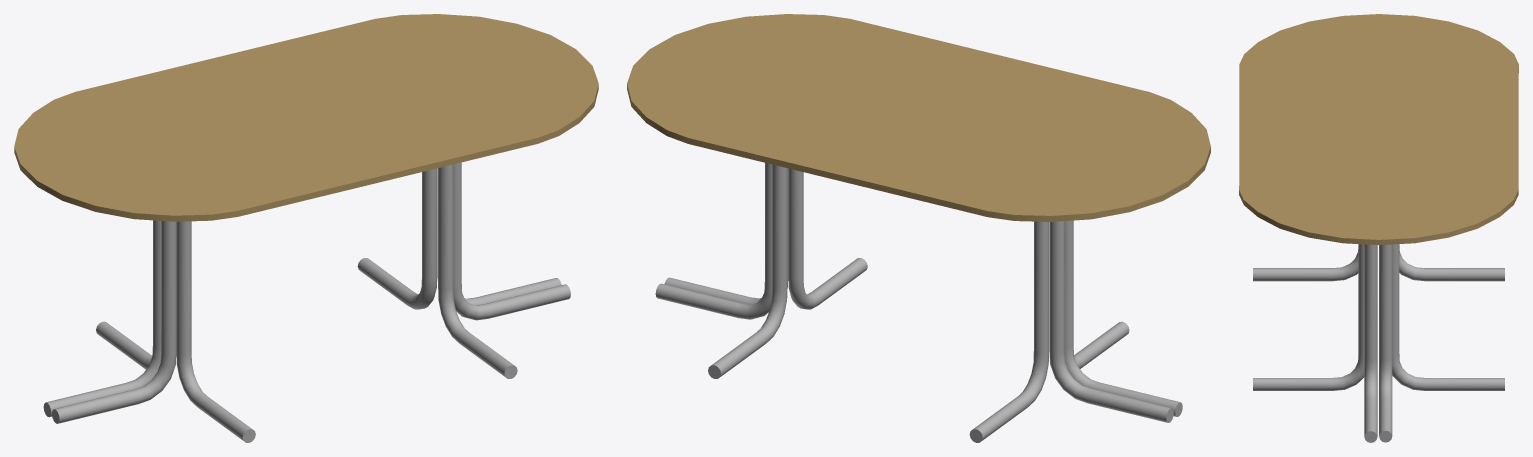
The model's file is tableCuisine2.obj.
3 renders of one model, left to right at view 1: azimuth 30°, elevation 25°; view 2: azimuth 150°, elevation 25°; view 3: azimuth 270°, elevation 25°, orthographic. The views are drawn at different scales.
Visible parts, largest first — view 1: mesh01, mesh03; view 2: mesh01, mesh03; view 3: mesh01, mesh03.
Boxes of the visible parts, x1=… form: mesh01: x1=14, y1=14, x2=598, y2=221; mesh03: x1=43, y1=162, x2=570, y2=442; mesh01: x1=627, y1=14, x2=1210, y2=221; mesh03: x1=655, y1=163, x2=1182, y2=442; mesh01: x1=1239, y1=14, x2=1518, y2=244; mesh03: x1=1253, y1=244, x2=1504, y2=442.
Bounding box in the file's own units: 203 × 87.54 × 106.
